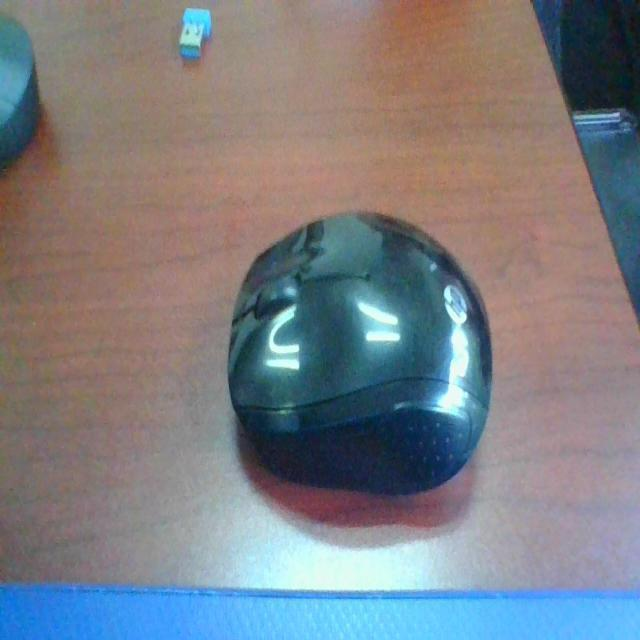Mouse: (214, 211, 528, 518)
